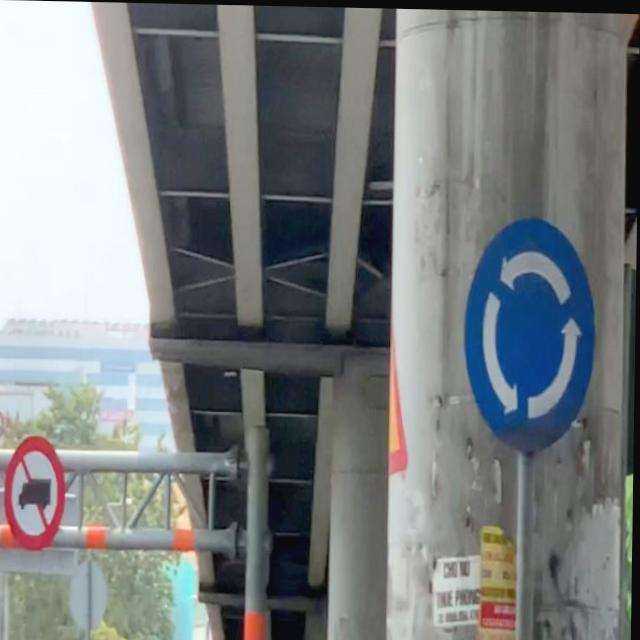Cam xe tai: (5, 435, 68, 552)
Noi giao nhau chay theo vong xuyen: (463, 213, 600, 454)
